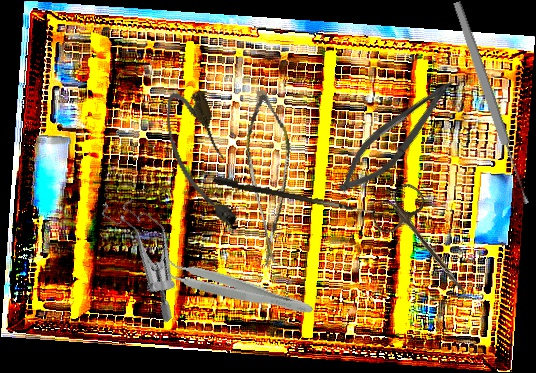Cannula: (155, 84, 247, 236)
Hook Surgical: (212, 176, 395, 218)
Iris Scissors: (366, 179, 490, 311)
Micro Scissor: (329, 63, 463, 207), (223, 86, 319, 271)
Speculum: (69, 184, 216, 326)
Surgical Spoon: (451, 0, 532, 206)
Tissue Forceps: (155, 252, 317, 321)
